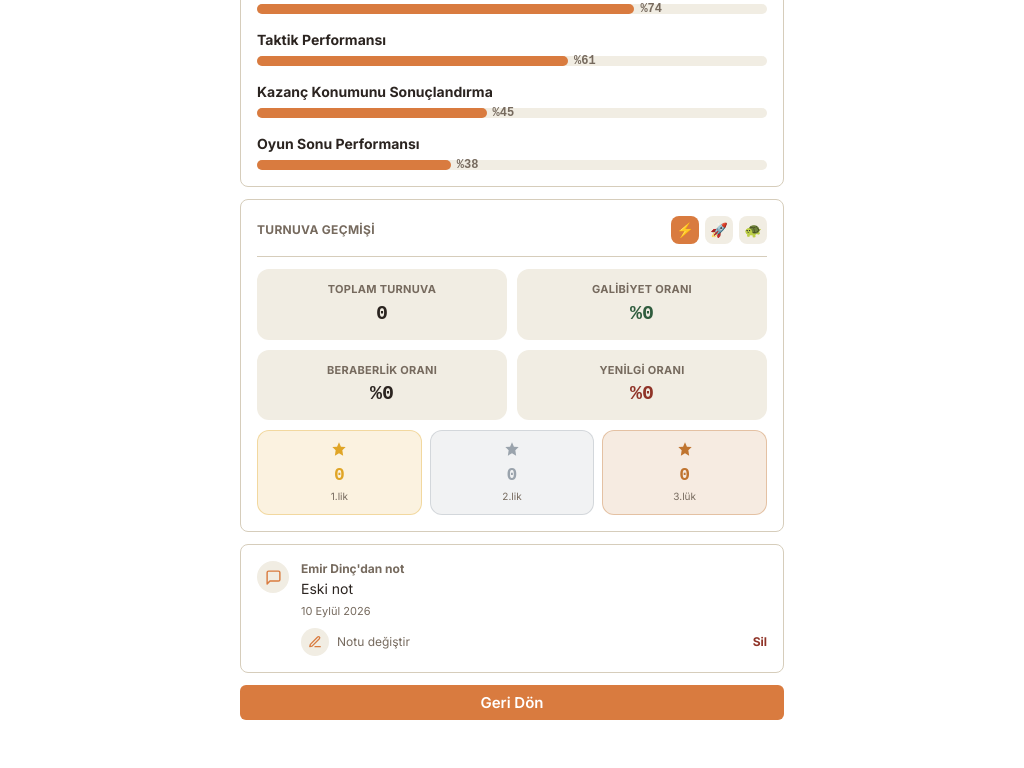
Scenario: Madde 2026-09-11 (Görsel Turu Aşama E / Madde 9): antrenör öğrenci profilinde hoca notu yönetir › mevcut notu gösterir, yeni not yazınca PUT çağrılır ve kart güncellenir
(page scrolled)
Expected: the text "Eski not" is shown, 301,580 -> 353,597
Click the button named "Notu değiştir": (315, 642) 301,628 -> 329,656
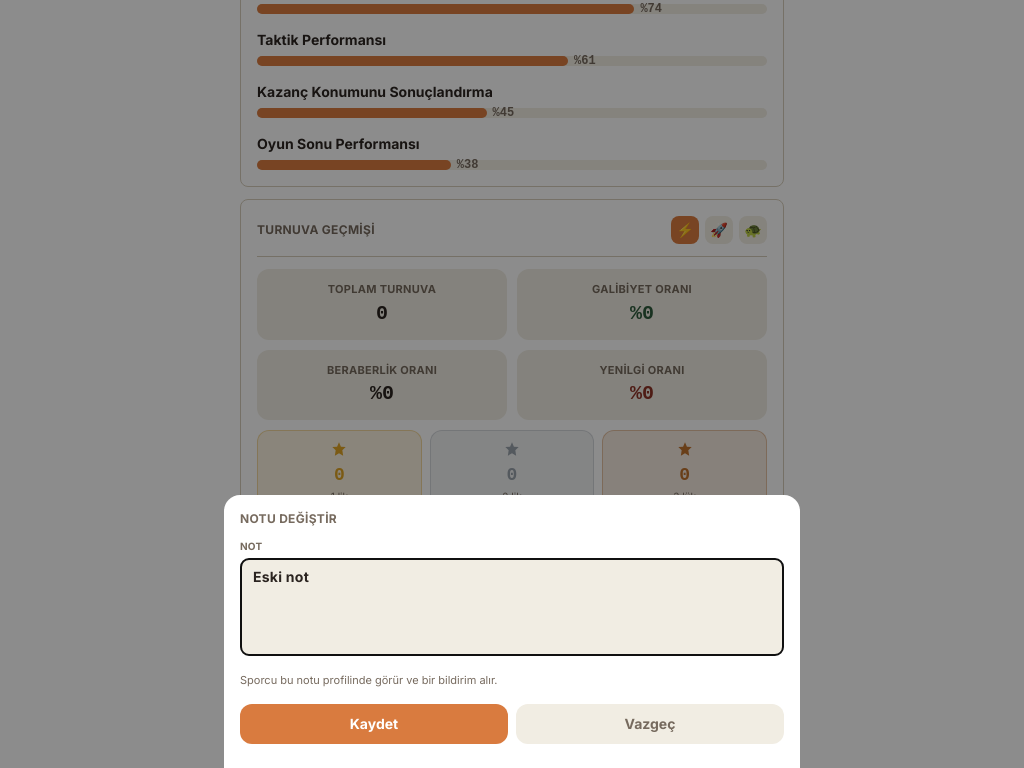
Replace the text in the text box labelled "Not" with "Yeni not": (512, 606) 240,558 -> 784,656
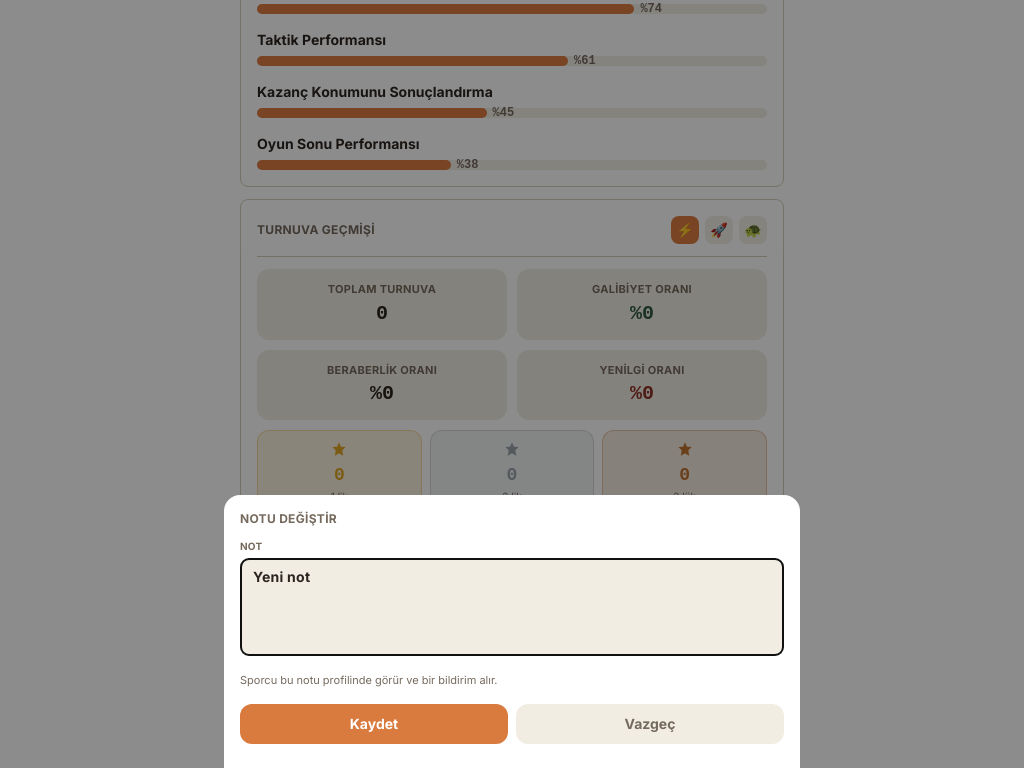
Click the button "Kaydet": (374, 724) 240,704 -> 508,744
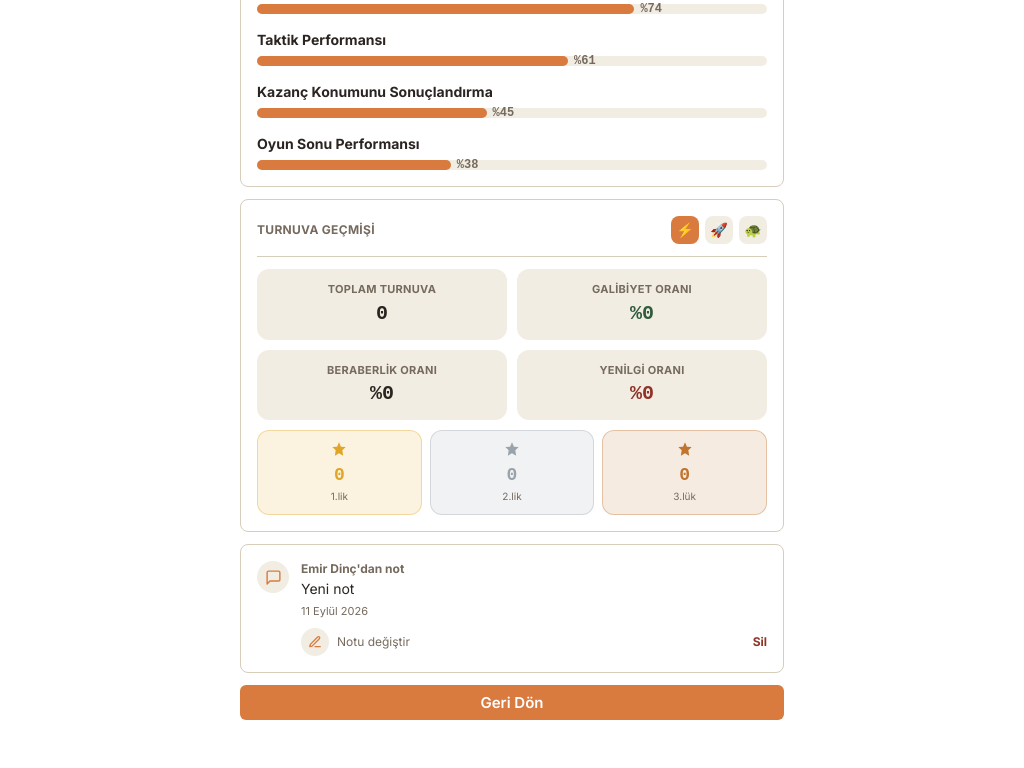
Result: the text "Yeni not" is shown at 301,580 -> 354,597
Result: the text "Eski not" is gone
